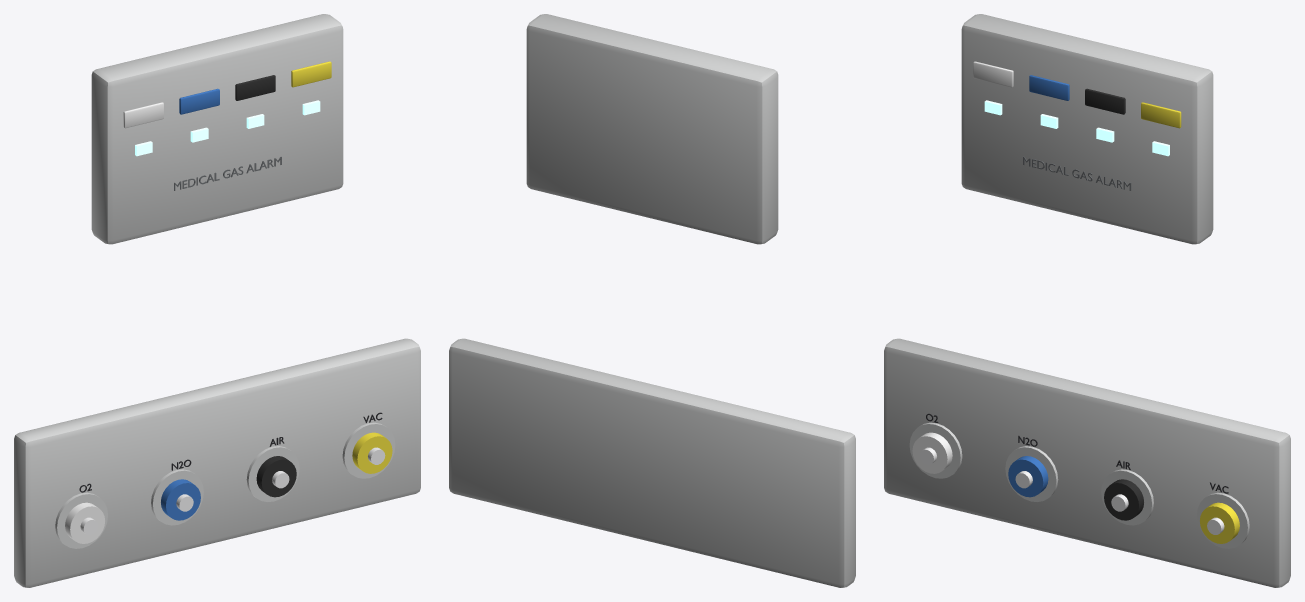
The model's file is WallGasPanel.fbx.
3 views of the same model, side by side, from view 1: azimuth 30°, elevation 25°; view 2: azimuth 150°, elevation 25°; view 3: azimuth 330°, elevation 25° (orthographic).
Visible parts, largest first — view 1: WallGasPanel_Mesh; view 2: WallGasPanel_Mesh; view 3: WallGasPanel_Mesh.
Part boxes in pixels (left/top/right/bottom): WallGasPanel_Mesh: left=14, top=14, right=420, bottom=587; WallGasPanel_Mesh: left=449, top=14, right=855, bottom=587; WallGasPanel_Mesh: left=884, top=14, right=1290, bottom=587.
Bounding box in the file's own units: 0.5 × 0.59 × 0.0568.
